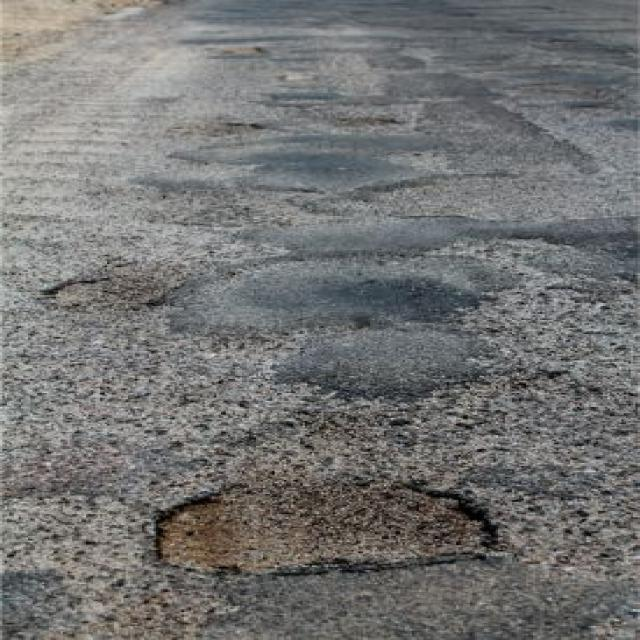Pothole: (141, 474, 507, 581)
